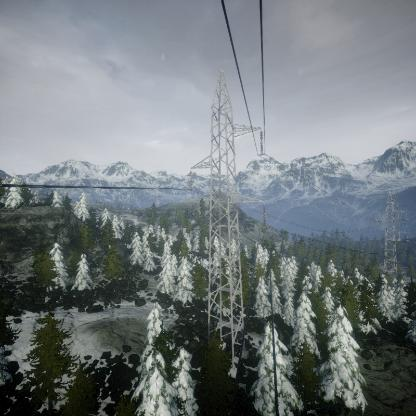tower: (185, 71, 267, 376), (374, 190, 410, 292)
